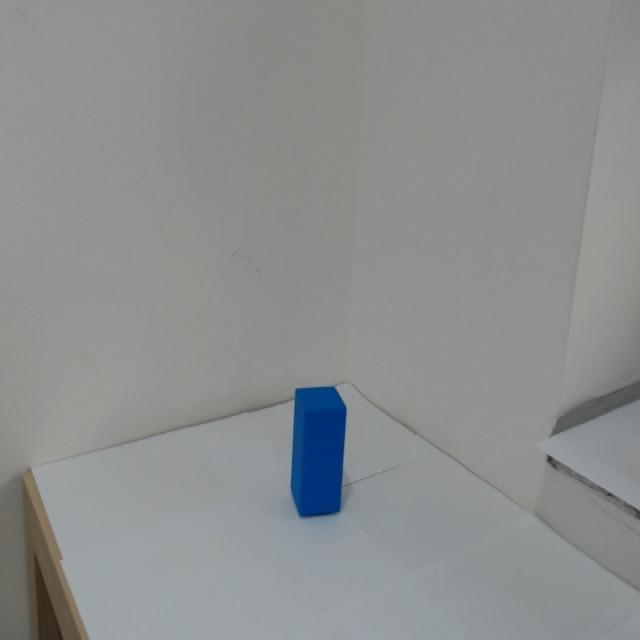cube: (285, 332, 361, 556)
